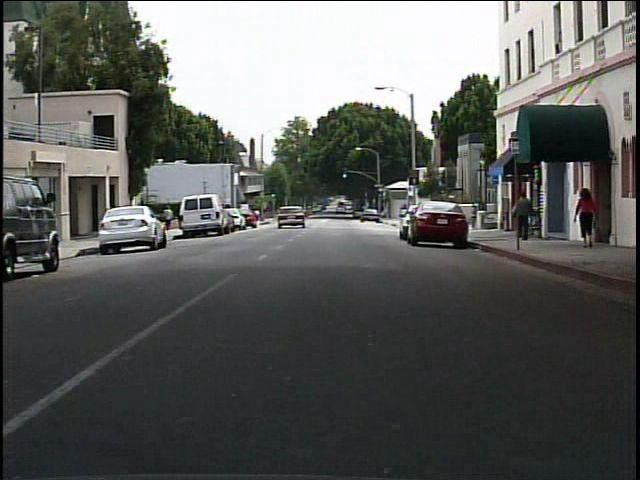person: (570, 188, 602, 249), (509, 190, 537, 243), (160, 202, 178, 234)
